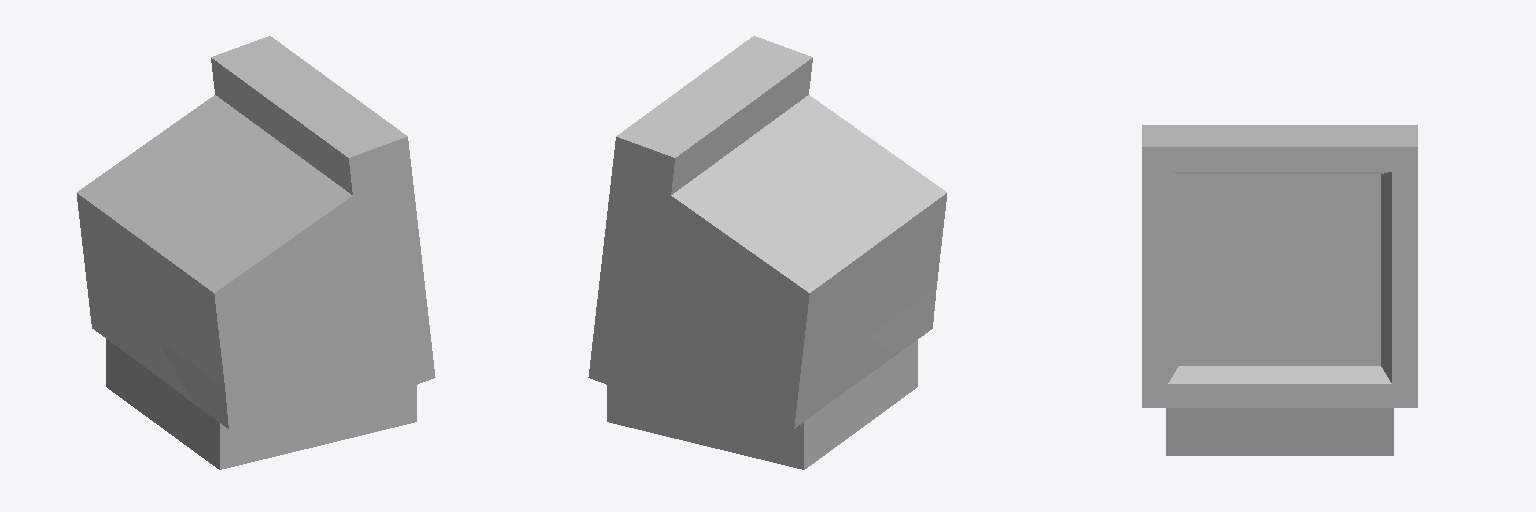
File: Monitor.obj
3 views of the same model, side by side, from view 1: azimuth 30°, elevation 25°; view 2: azimuth 150°, elevation 25°; view 3: azimuth 270°, elevation 25° (orthographic).
Parts seen in each view (by area): view 1: Mointor_Cube, Stand_Cube.001; view 2: Mointor_Cube, Stand_Cube.001; view 3: Mointor_Cube, Stand_Cube.001.
Part boxes in pixels (left/top/right/bottom): Mointor_Cube: left=77, top=36, right=435, bottom=428; Stand_Cube.001: left=106, top=339, right=416, bottom=469; Mointor_Cube: left=588, top=36, right=946, bottom=428; Stand_Cube.001: left=607, top=340, right=917, bottom=469; Mointor_Cube: left=1142, top=125, right=1417, bottom=407; Stand_Cube.001: left=1166, top=408, right=1393, bottom=455.
Bounding box in the file's own units: 1.85 × 2.4 × 2.